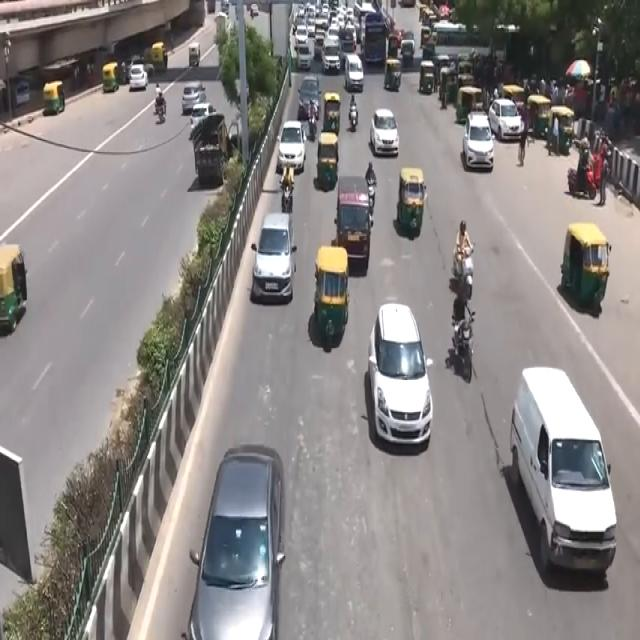BUS: (362, 10, 386, 66)
MOTORCYCLE: (457, 318, 477, 386), (459, 249, 477, 300)
